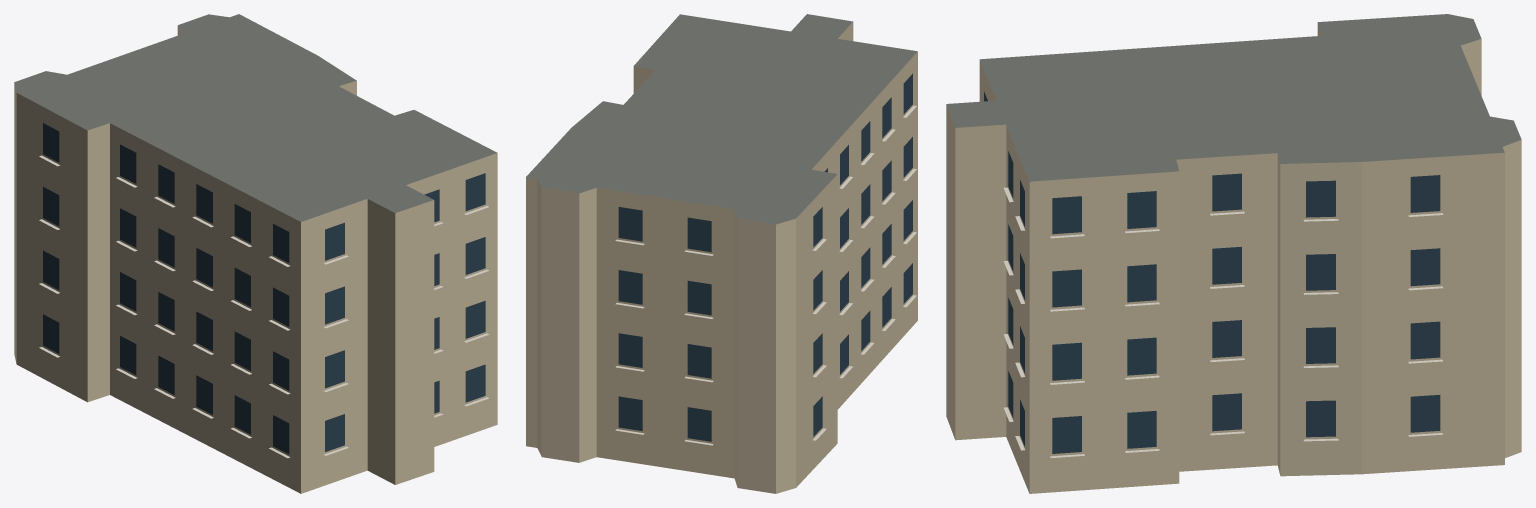
3 views of the same model, side by side, from view 1: azimuth 30°, elevation 25°; view 2: azimuth 150°, elevation 25°; view 3: azimuth 270°, elevation 25° (orthographic). The views are drawn at different scales.
Parts seen in each view (by area): view 1: Footprint 0, Inferred window bays, Window sills; view 2: Footprint 0, Inferred window bays, Window sills; view 3: Footprint 0, Inferred window bays, Window sills.
Part boxes in pixels (x1,y1,x2,y2): Footprint 0: (14, 14, 497, 493); Inferred window bays: (43, 123, 485, 454); Window sills: (39, 155, 488, 458); Footprint 0: (526, 14, 917, 493); Inferred window bays: (618, 73, 912, 441); Window sills: (615, 105, 916, 445); Footprint 0: (946, 14, 1521, 493); Inferred window bays: (984, 91, 1440, 453); Window sills: (1003, 187, 1443, 457).
Size of the model in its own units: 16.55 by 14.29 by 23.87.
